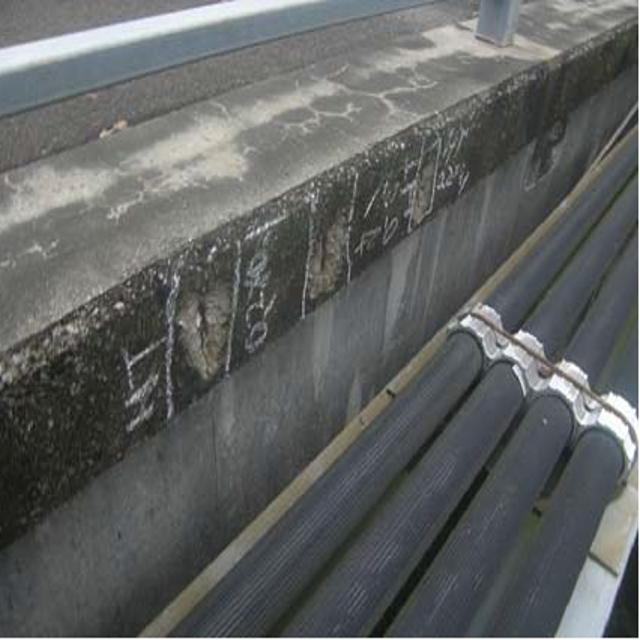spalling: (154, 251, 249, 383), (299, 174, 344, 304), (407, 140, 444, 231)
